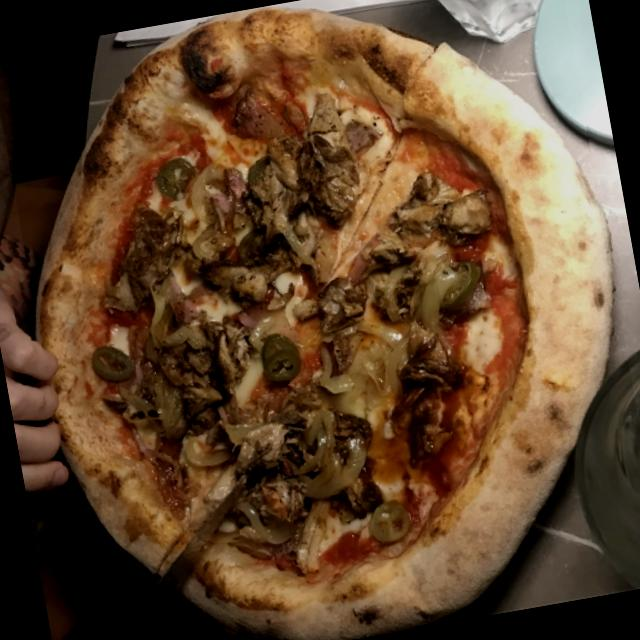Olive: (252, 324, 306, 384), (150, 150, 207, 200), (436, 256, 486, 310), (365, 493, 414, 544), (87, 339, 138, 388)
pizza: (38, 8, 611, 639)
